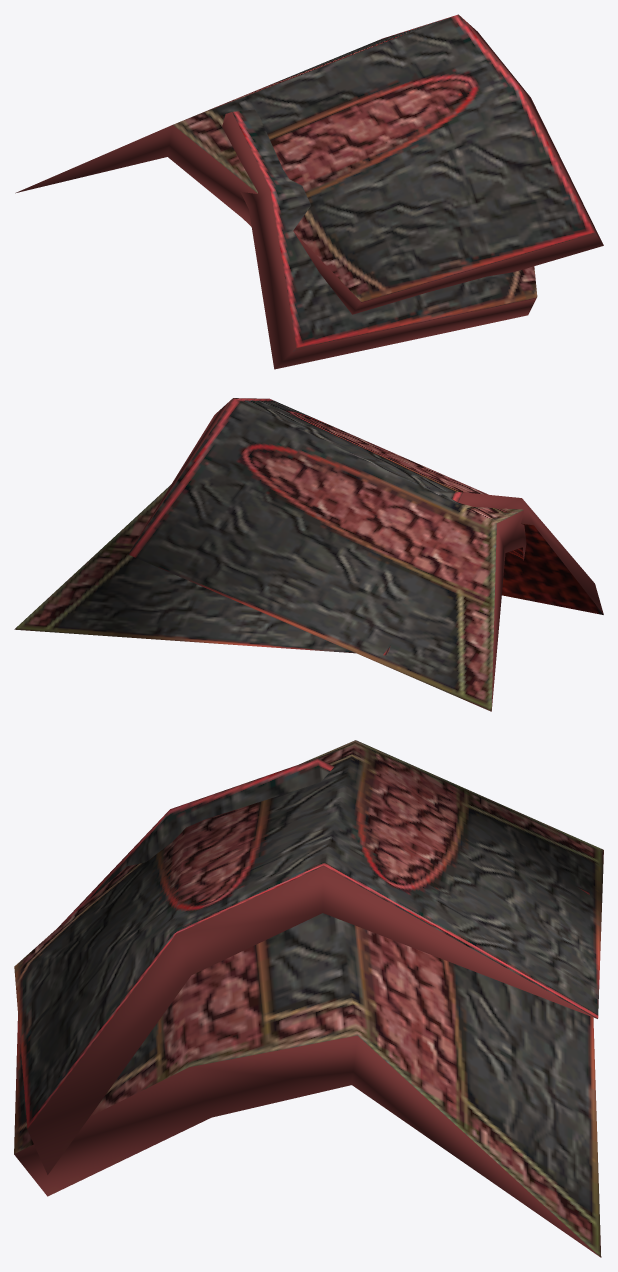
Rendered from ShoulderPads6__BOS.glb.
3 renders of one model, top to bottom at view 1: azimuth 30°, elevation 25°; view 2: azimuth 150°, elevation 25°; view 3: azimuth 270°, elevation 25°, orthographic. The views are drawn at different scales.
Parts seen in each view (by area): view 1: ShoulderPads6; view 2: ShoulderPads6; view 3: ShoulderPads6.
Boxes of the visible parts, x1,y1,x2,y2 form: ShoulderPads6: (15,14,603,369); ShoulderPads6: (14,398,603,711); ShoulderPads6: (14,740,603,1257).
Bounding box in the file's own units: 13.97 × 6.37 × 9.83.
1 material, 1 textured.
